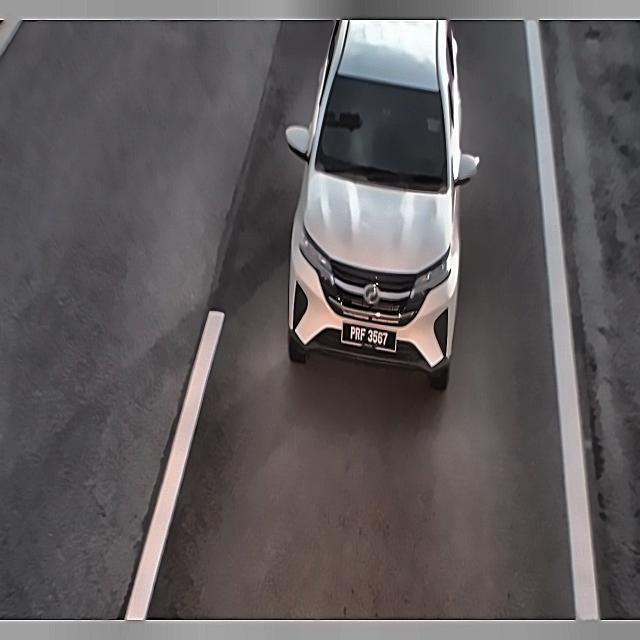car: (340, 316, 397, 358)
